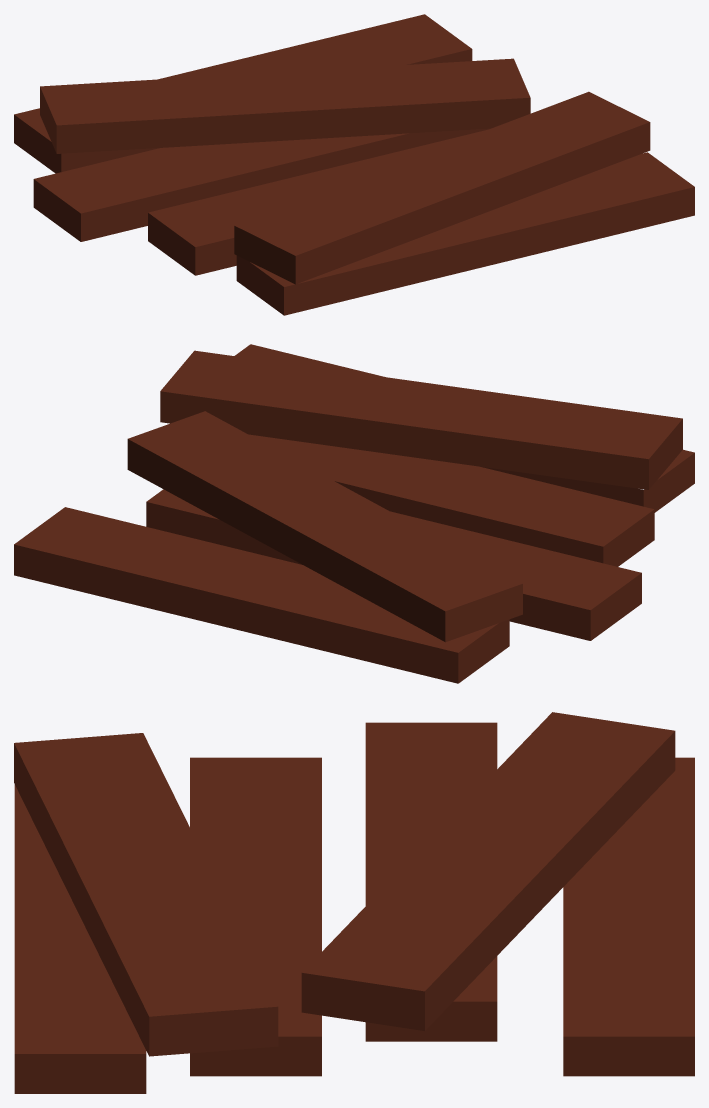
The model's file is debris-planks.glb.
3 renders of one model, top to bottom at view 1: azimuth 30°, elevation 25°; view 2: azimuth 150°, elevation 25°; view 3: azimuth 270°, elevation 25°, orthographic. The views are drawn at different scales.
Visible parts, largest first — view 1: debris_wood; view 2: debris_wood; view 3: debris_wood.
Part boxes in pixels (x1,y1,x2,y2): debris_wood: (14,14,694,315); debris_wood: (14,344,694,683); debris_wood: (14,712,694,1093).
Size of the model in its own units: 0.6297 by 0.07 by 0.5429.
